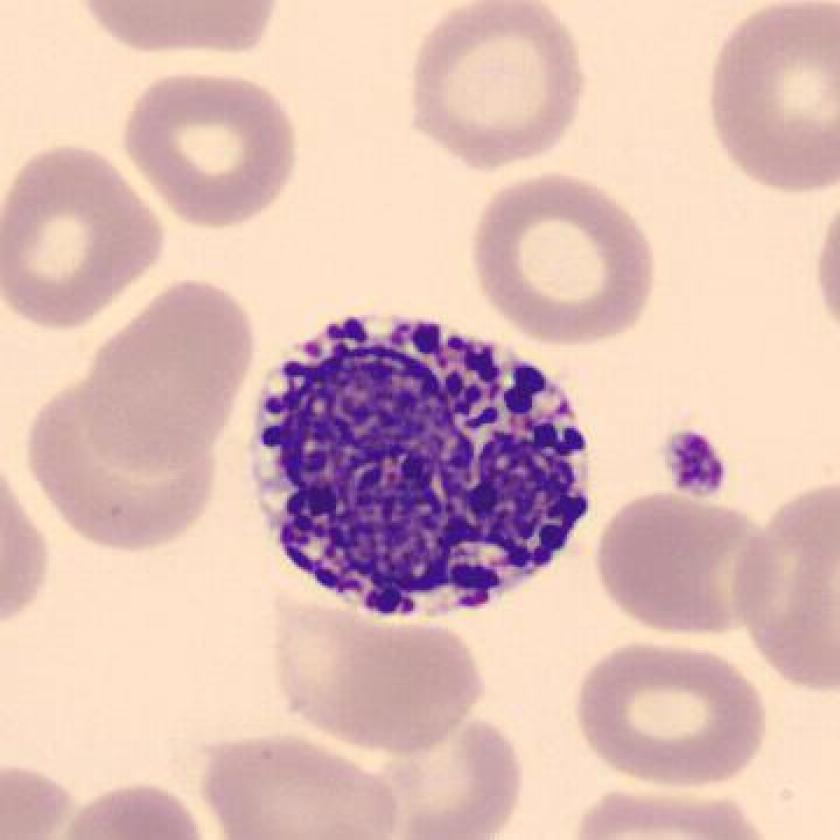basophil: (249, 302, 599, 619)
